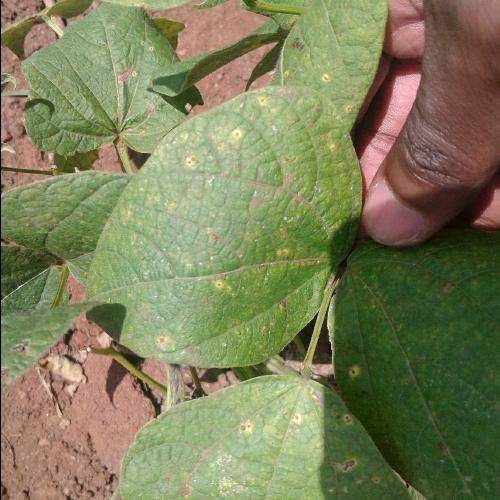mozaik: (176, 134, 300, 336)
